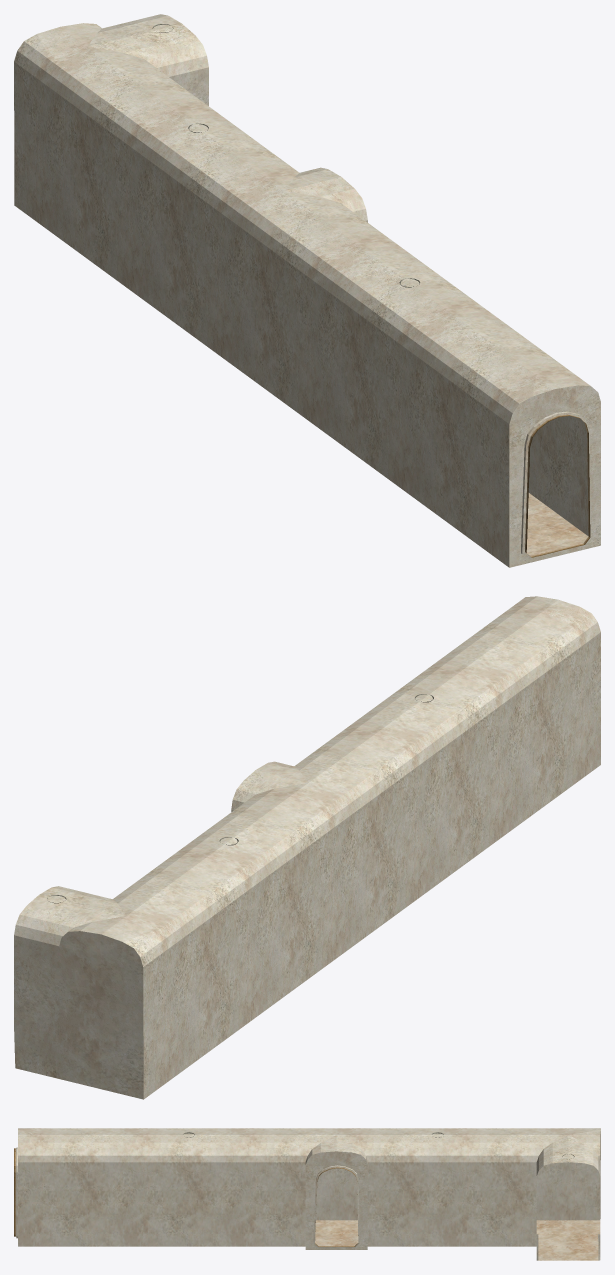
File: ply_tato_house_lg_s01_fp1_r7_upstairshall_mesh_r7.fbx
3 renders of one model, top to bottom at view 1: azimuth 30°, elevation 25°; view 2: azimuth 150°, elevation 25°; view 3: azimuth 270°, elevation 25°, orthographic. The views are drawn at different scales.
Parts seen in each view (by area): view 1: mesh_node; view 2: mesh_node; view 3: mesh_node.
Part boxes in pixels (left/top/right/bottom): mesh_node: left=14, top=14, right=600, bottom=567; mesh_node: left=14, top=596, right=600, bottom=1099; mesh_node: left=14, top=1128, right=600, bottom=1260.
Bounding box in the file's own units: 3.07 × 3.5 × 18.88.
